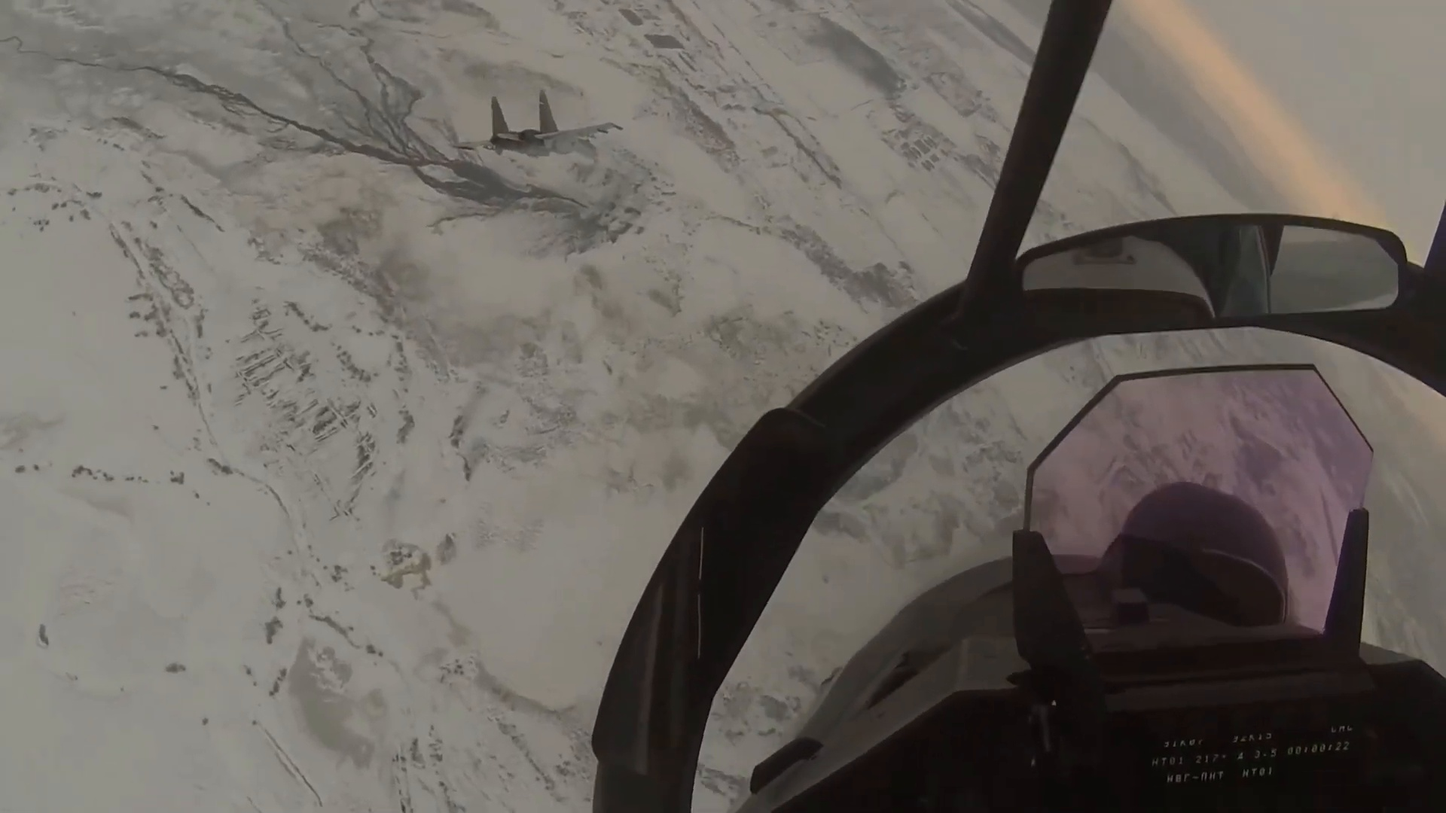Su35: (453, 88, 624, 157)
